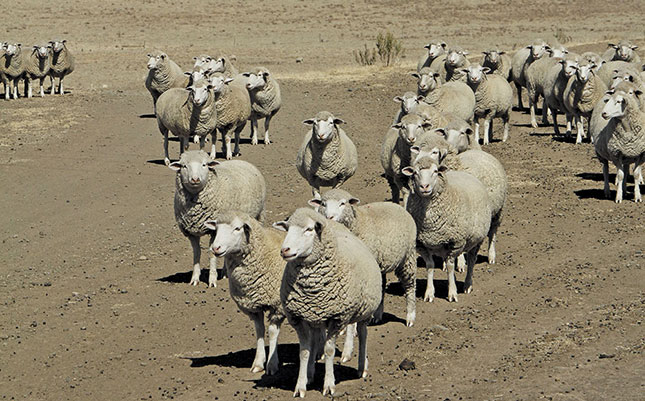sheep: (212, 217, 320, 381), (287, 203, 381, 374), (161, 149, 278, 264), (414, 156, 492, 308), (313, 183, 403, 300), (383, 100, 473, 198), (593, 53, 645, 199), (299, 103, 363, 200), (537, 51, 589, 152), (131, 45, 203, 116), (145, 71, 216, 141), (403, 65, 459, 151), (569, 57, 612, 155), (246, 67, 291, 153), (415, 37, 468, 94), (512, 34, 549, 100), (43, 37, 81, 98), (21, 37, 48, 106), (6, 34, 29, 110), (439, 51, 479, 85), (481, 45, 516, 79)
